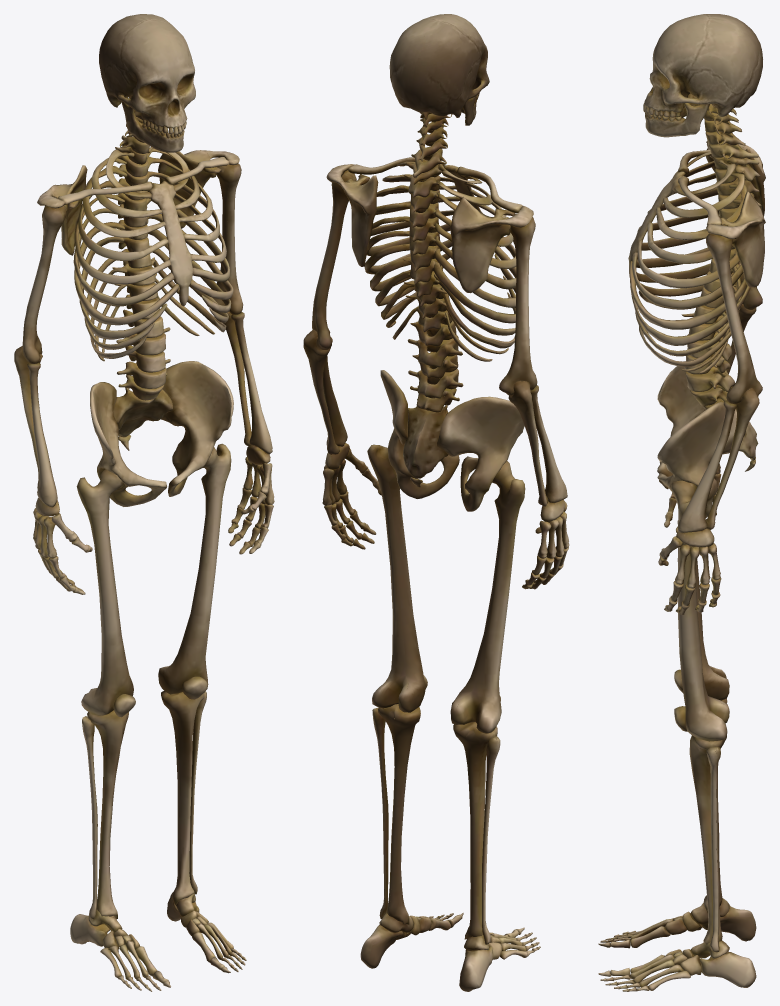
File: skeleton.glb
3 renders of one model, left to right at view 1: azimuth 30°, elevation 25°; view 2: azimuth 150°, elevation 25°; view 3: azimuth 270°, elevation 25°, orthographic. The views are drawn at different scales.
Parts seen in each view (by area): view 1: Object_0; view 2: Object_0; view 3: Object_0.
Part boxes in pixels (box(x1,y1,x2,y2)): Object_0: box(14, 14, 274, 991); Object_0: box(303, 14, 569, 991); Object_0: box(598, 14, 765, 991).
Size of the model in its own units: 0.44 by 1.7 by 0.2735.
Materials: 1 (1 with a texture image).
